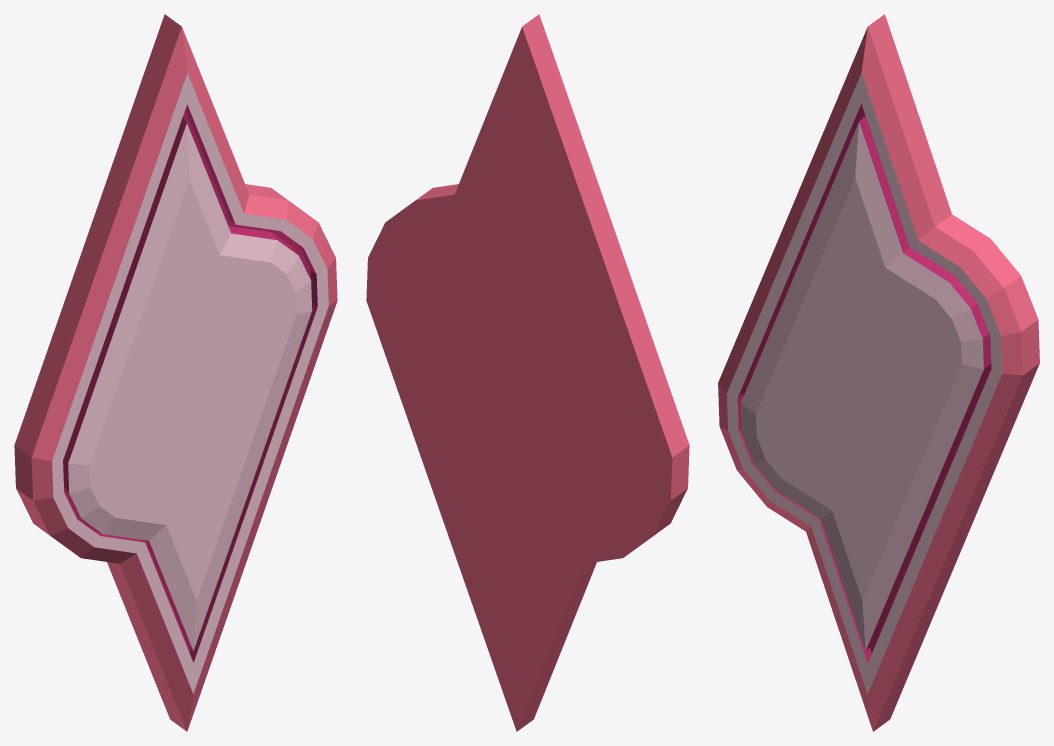
Rendered from Lovers.glb.
The picture shows the model from 3 angles, left to right: view 1: azimuth 30°, elevation 25°; view 2: azimuth 150°, elevation 25°; view 3: azimuth 330°, elevation 25°; orthographic projection.
Parts seen in each view (by area): view 1: Base; view 2: Base; view 3: Base.
Boxes of the visible parts, x1,y1,x2,y2 form: Base: [14, 14, 337, 731]; Base: [366, 14, 689, 731]; Base: [718, 14, 1039, 731].
Bounding box in the file's own units: 2.88 × 6.35 × 0.4436.
